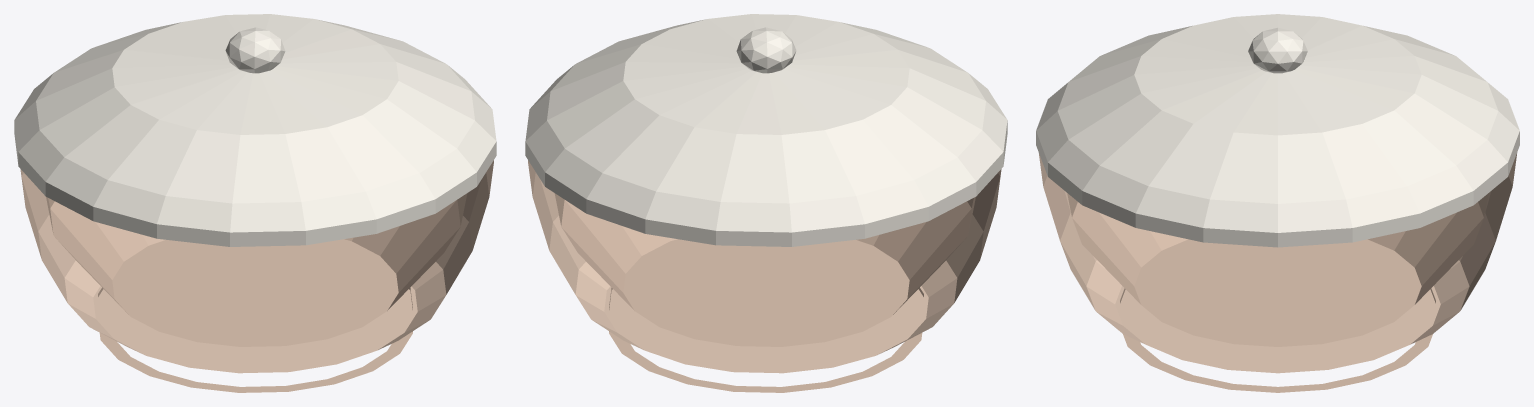
Rendered from container_siru_closed.glb.
The picture shows the model from 3 angles, left to right: view 1: azimuth 30°, elevation 25°; view 2: azimuth 150°, elevation 25°; view 3: azimuth 270°, elevation 25°; orthographic projection.
Visible parts, largest first — view 1: lid, inner, body, foot, knob; view 2: lid, inner, body, foot, knob; view 3: lid, inner, body, foot, knob.
Boxes of the visible parts, x1=… form: lid: x1=14, y1=14, x2=496, y2=246; inner: x1=46, y1=193, x2=467, y2=346; body: x1=20, y1=160, x2=493, y2=373; foot: x1=98, y1=287, x2=412, y2=392; knob: x1=225, y1=27, x2=285, y2=73; lid: x1=525, y1=14, x2=1007, y2=246; inner: x1=554, y1=193, x2=975, y2=346; body: x1=528, y1=160, x2=1001, y2=373; foot: x1=609, y1=287, x2=923, y2=392; knob: x1=736, y1=27, x2=796, y2=73; lid: x1=1036, y1=14, x2=1519, y2=247; inner: x1=1067, y1=193, x2=1488, y2=346; body: x1=1039, y1=154, x2=1516, y2=373; foot: x1=1120, y1=288, x2=1435, y2=392; knob: x1=1248, y1=27, x2=1307, y2=73.
Size of the model in its own units: 0.2424 by 0.163 by 0.2424.
